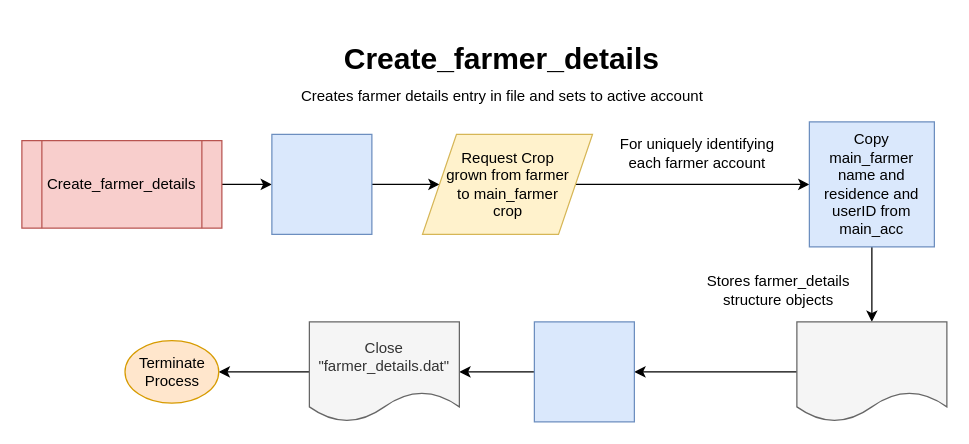
Image size: 969x444. Some labels were removed from this diagram. The shapes that lost their labels are listed below. From the top down, each one's centre as x and y in pixels, then its label:
the point at 321,183: Clear screen
the point at 583,371: Write main_farmer details into FILE
the point at 871,371: Open "farmer_details.dat"
